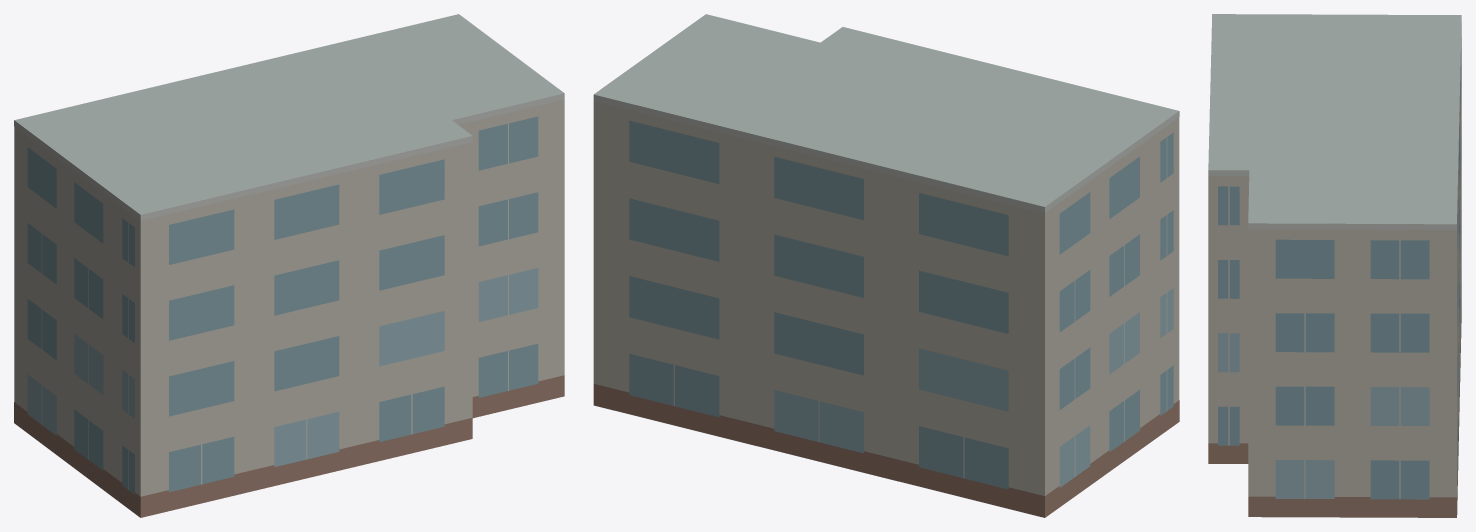
File: residential-4e28a364-7a88-4d37-b97f-da07eee7a31a.glb
3 views of the same model, side by side, from view 1: azimuth 30°, elevation 25°; view 2: azimuth 150°, elevation 25°; view 3: azimuth 270°, elevation 25° (orthographic). The views are drawn at different scales.
Visible parts, largest first — view 1: residential-4e28a364-7a88-4d37-b97f-da07eee7a31a.tmp; view 2: residential-4e28a364-7a88-4d37-b97f-da07eee7a31a.tmp; view 3: residential-4e28a364-7a88-4d37-b97f-da07eee7a31a.tmp.
Part boxes in pixels (x1,y1,x2,y2): residential-4e28a364-7a88-4d37-b97f-da07eee7a31a.tmp: (14,14,564,517); residential-4e28a364-7a88-4d37-b97f-da07eee7a31a.tmp: (593,14,1179,517); residential-4e28a364-7a88-4d37-b97f-da07eee7a31a.tmp: (1208,14,1461,517).
Bounding box in the file's own units: 18.75 × 12.2 × 9.55.
